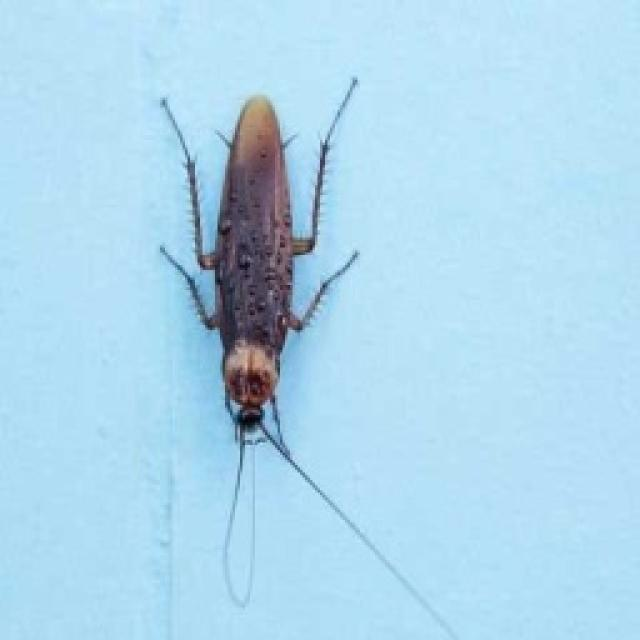cockroach: (142, 55, 389, 479)
